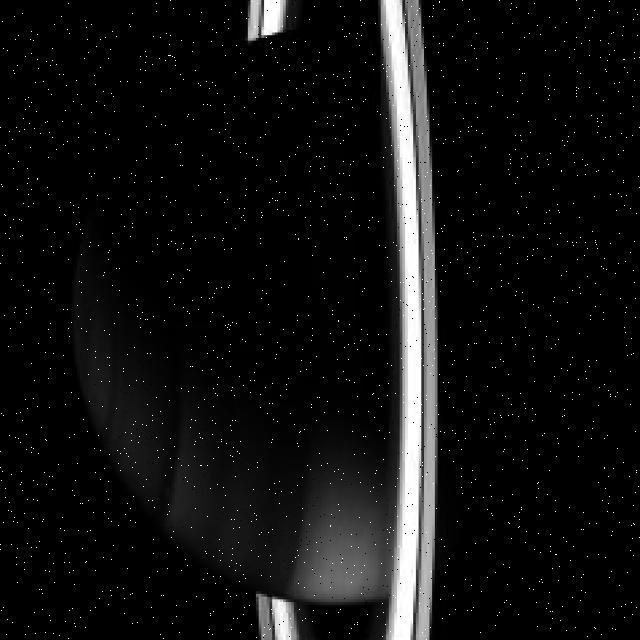Saturn: (70, 0, 566, 640)
